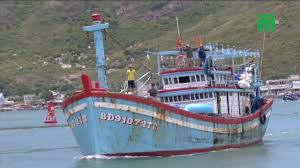tau_dansu: (62, 22, 276, 148)
